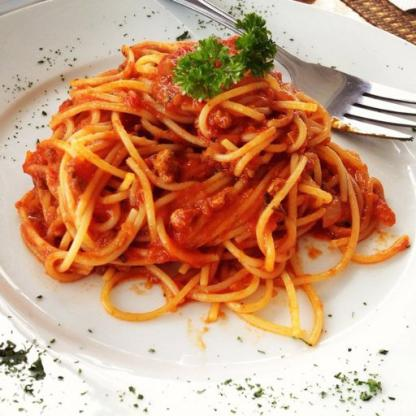pasta: (14, 44, 390, 351)
